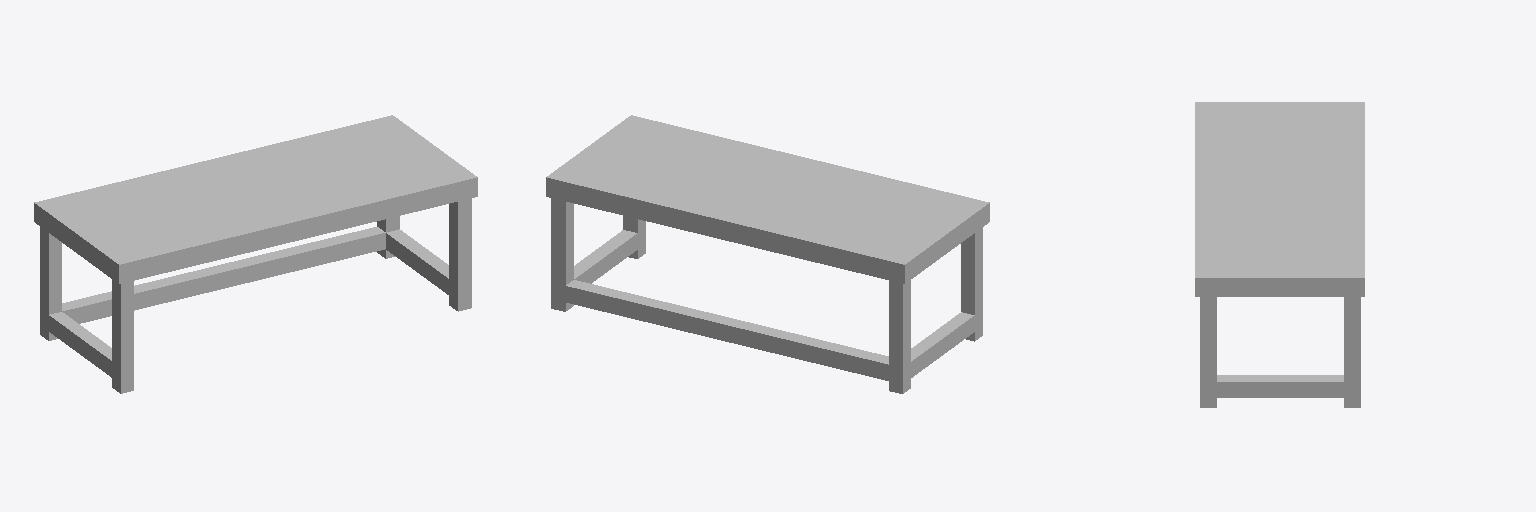
File: Crafting Table 02.obj
3 views of the same model, side by side, from view 1: azimuth 30°, elevation 25°; view 2: azimuth 150°, elevation 25°; view 3: azimuth 270°, elevation 25° (orthographic).
Parts seen in each view (by area): view 1: CraftingTable_02; view 2: CraftingTable_02; view 3: CraftingTable_02.
Part boxes in pixels (x1,y1,x2,y2): CraftingTable_02: (34,115,477,393); CraftingTable_02: (546,115,989,393); CraftingTable_02: (1195,102,1364,407).
Size of the model in its own units: 185 by 64.98 by 75.92.